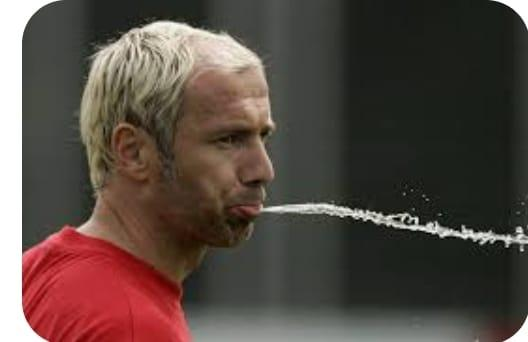Spitting: (71, 15, 359, 262)
